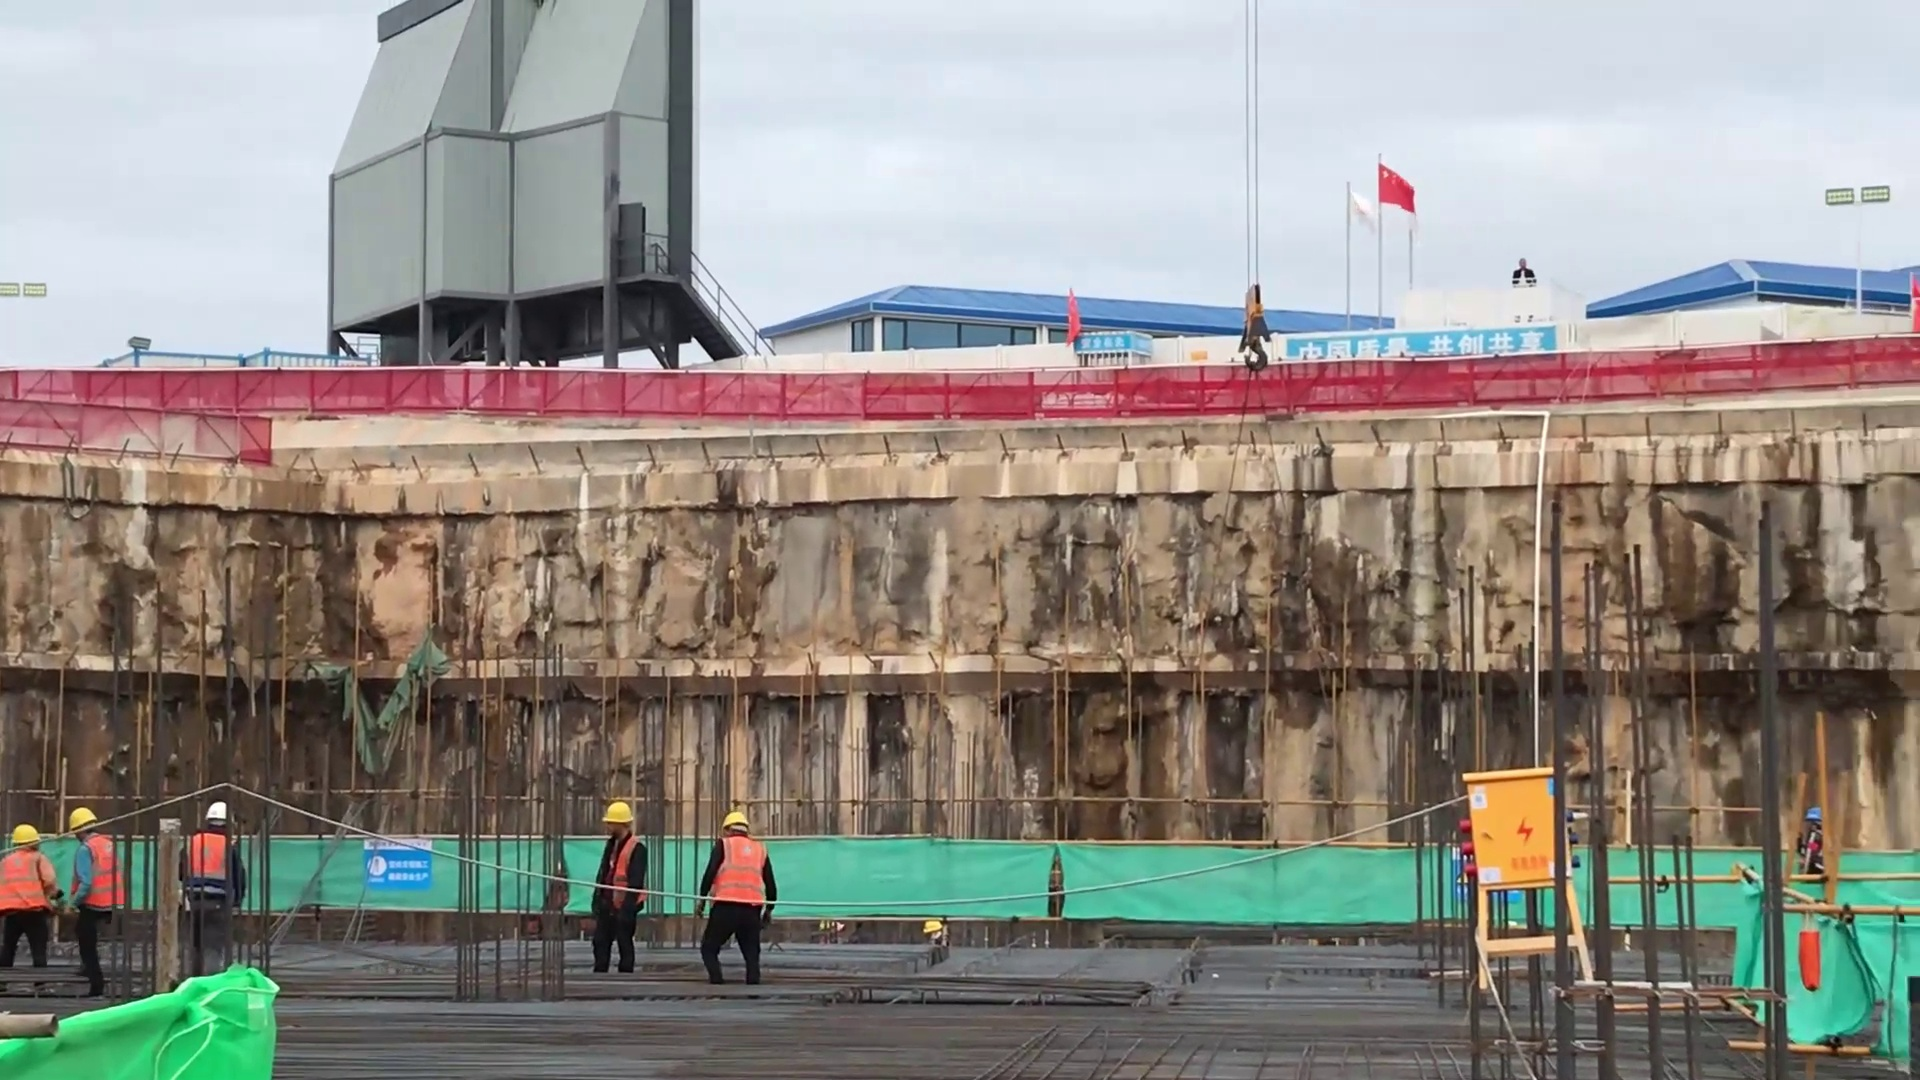ebox: (1453, 743, 1622, 1025)
fence: (1, 355, 1897, 465), (1614, 323, 1920, 402)
helmet: (62, 795, 101, 837), (196, 797, 244, 831), (604, 796, 642, 835), (13, 816, 51, 850), (719, 808, 754, 838), (1802, 805, 1823, 823)
hook: (1222, 284, 1291, 385)
person: (55, 806, 143, 999), (696, 807, 786, 984), (178, 796, 248, 983), (590, 803, 661, 976), (1, 820, 54, 966), (1509, 255, 1541, 291)
slogan: (1282, 320, 1578, 375), (355, 803, 448, 907), (1056, 319, 1127, 377)
vest: (703, 837, 777, 924), (184, 826, 248, 904), (593, 838, 652, 913), (1, 852, 61, 916), (77, 833, 124, 907)
